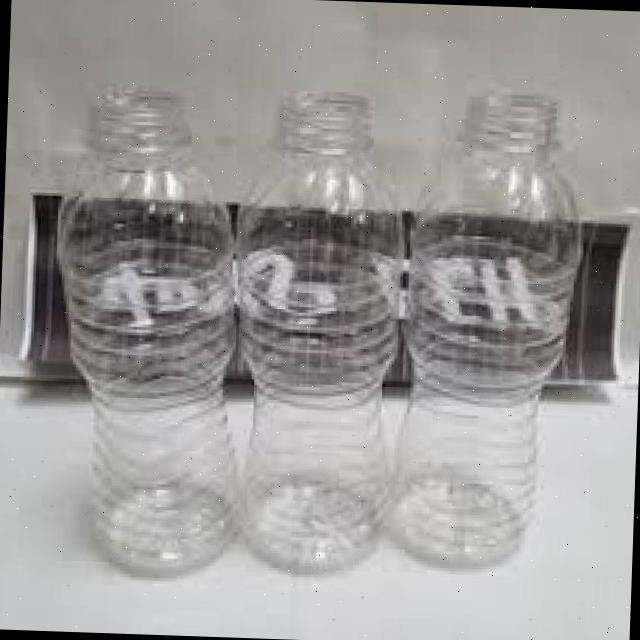bottle: (370, 63, 640, 573), (223, 70, 423, 580), (65, 77, 240, 584)
